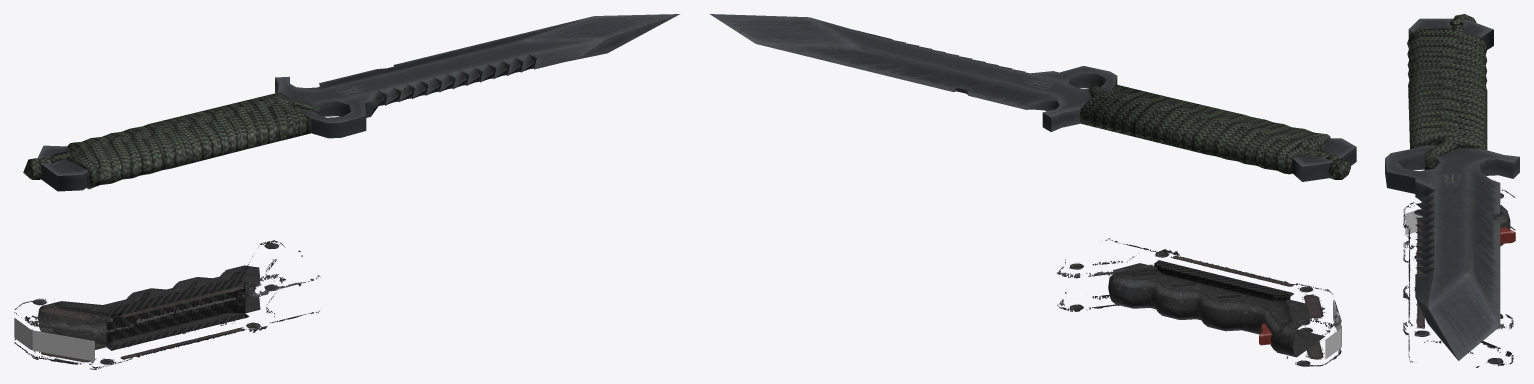
File: t6_wpn_ballistic_knife_view_LOD0.obj
3 renders of one model, left to right at view 1: azimuth 30°, elevation 25°; view 2: azimuth 150°, elevation 25°; view 3: azimuth 270°, elevation 25°, orthographic. The views are drawn at different scales.
Visible parts, largest first — view 1: mtl_t6_wpn_knife_base, mtl_t6_wpn_knife_base_camo2, mtl_t6_wpn_ballistic_knife_camo2, mtl_t6_wpn_ballistic_knife_camo1, mtl_clan_tag; view 2: mtl_t6_wpn_knife_base, mtl_t6_wpn_knife_base_camo2, mtl_t6_wpn_ballistic_knife_camo1, mtl_t6_wpn_ballistic_knife_camo2; view 3: mtl_t6_wpn_knife_base, mtl_t6_wpn_knife_base_camo2, mtl_t6_wpn_ballistic_knife_camo2, mtl_t6_wpn_ballistic_knife_camo1, mtl_clan_tag.
Part boxes in pixels (box(x1,y1,x2,y2)): mtl_t6_wpn_knife_base: box(37, 14, 679, 191); mtl_t6_wpn_knife_base_camo2: box(23, 92, 320, 189); mtl_t6_wpn_ballistic_knife_camo2: box(24, 240, 320, 369); mtl_t6_wpn_ballistic_knife_camo1: box(14, 242, 302, 369); mtl_clan_tag: box(14, 318, 94, 361); mtl_t6_wpn_knife_base: box(710, 14, 1356, 181); mtl_t6_wpn_knife_base_camo2: box(1079, 83, 1350, 179); mtl_t6_wpn_ballistic_knife_camo1: box(1065, 249, 1341, 366); mtl_t6_wpn_ballistic_knife_camo2: box(1056, 238, 1341, 359); mtl_t6_wpn_knife_base: box(1385, 18, 1519, 360); mtl_t6_wpn_knife_base_camo2: box(1407, 14, 1487, 169); mtl_t6_wpn_ballistic_knife_camo2: box(1403, 202, 1515, 367); mtl_t6_wpn_ballistic_knife_camo1: box(1403, 189, 1515, 365); mtl_clan_tag: box(1405, 209, 1422, 235).
Size of the model in its own units: 47.12 by 14.3 by 7.88.
